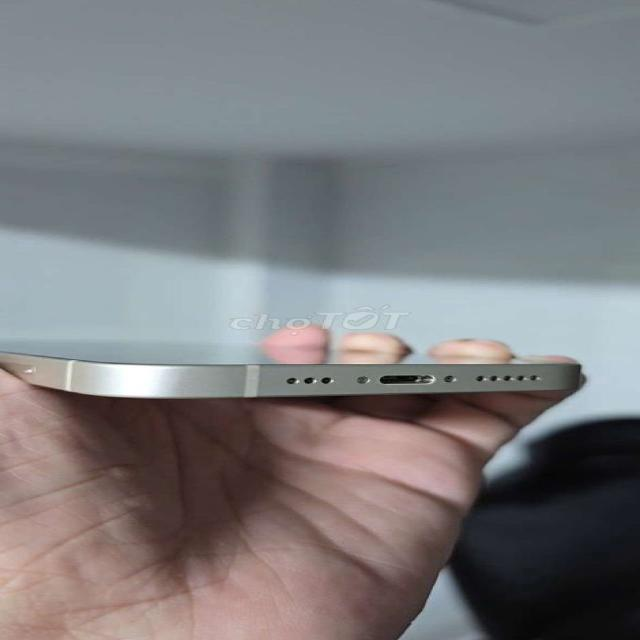gen_14: (0, 327, 609, 415)
